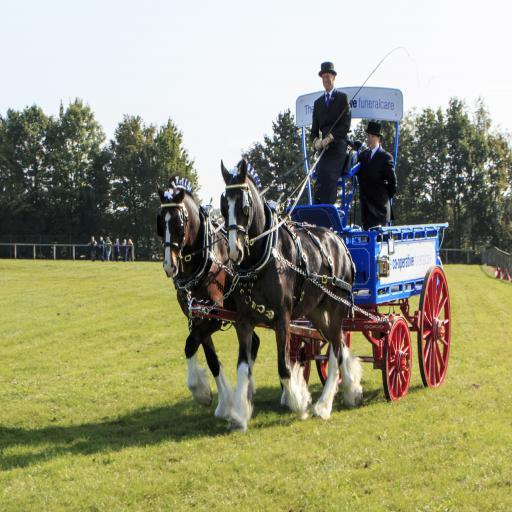horse: (220, 156, 363, 434), (156, 180, 288, 424)
